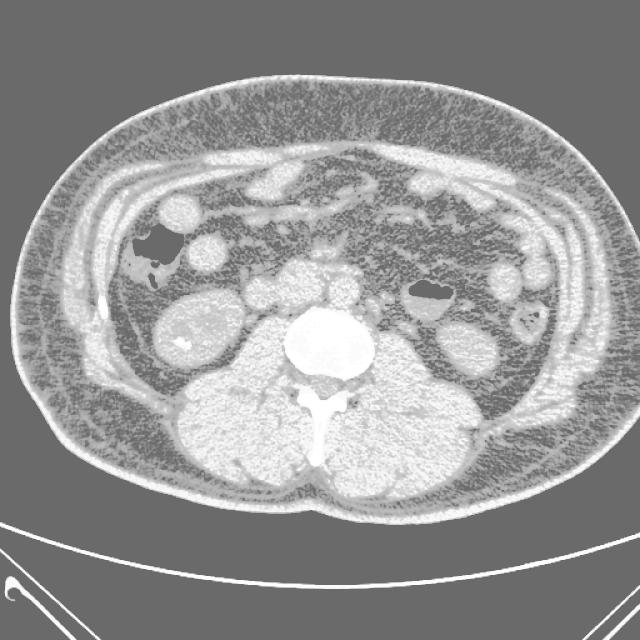STONE: (130, 141, 549, 371)
